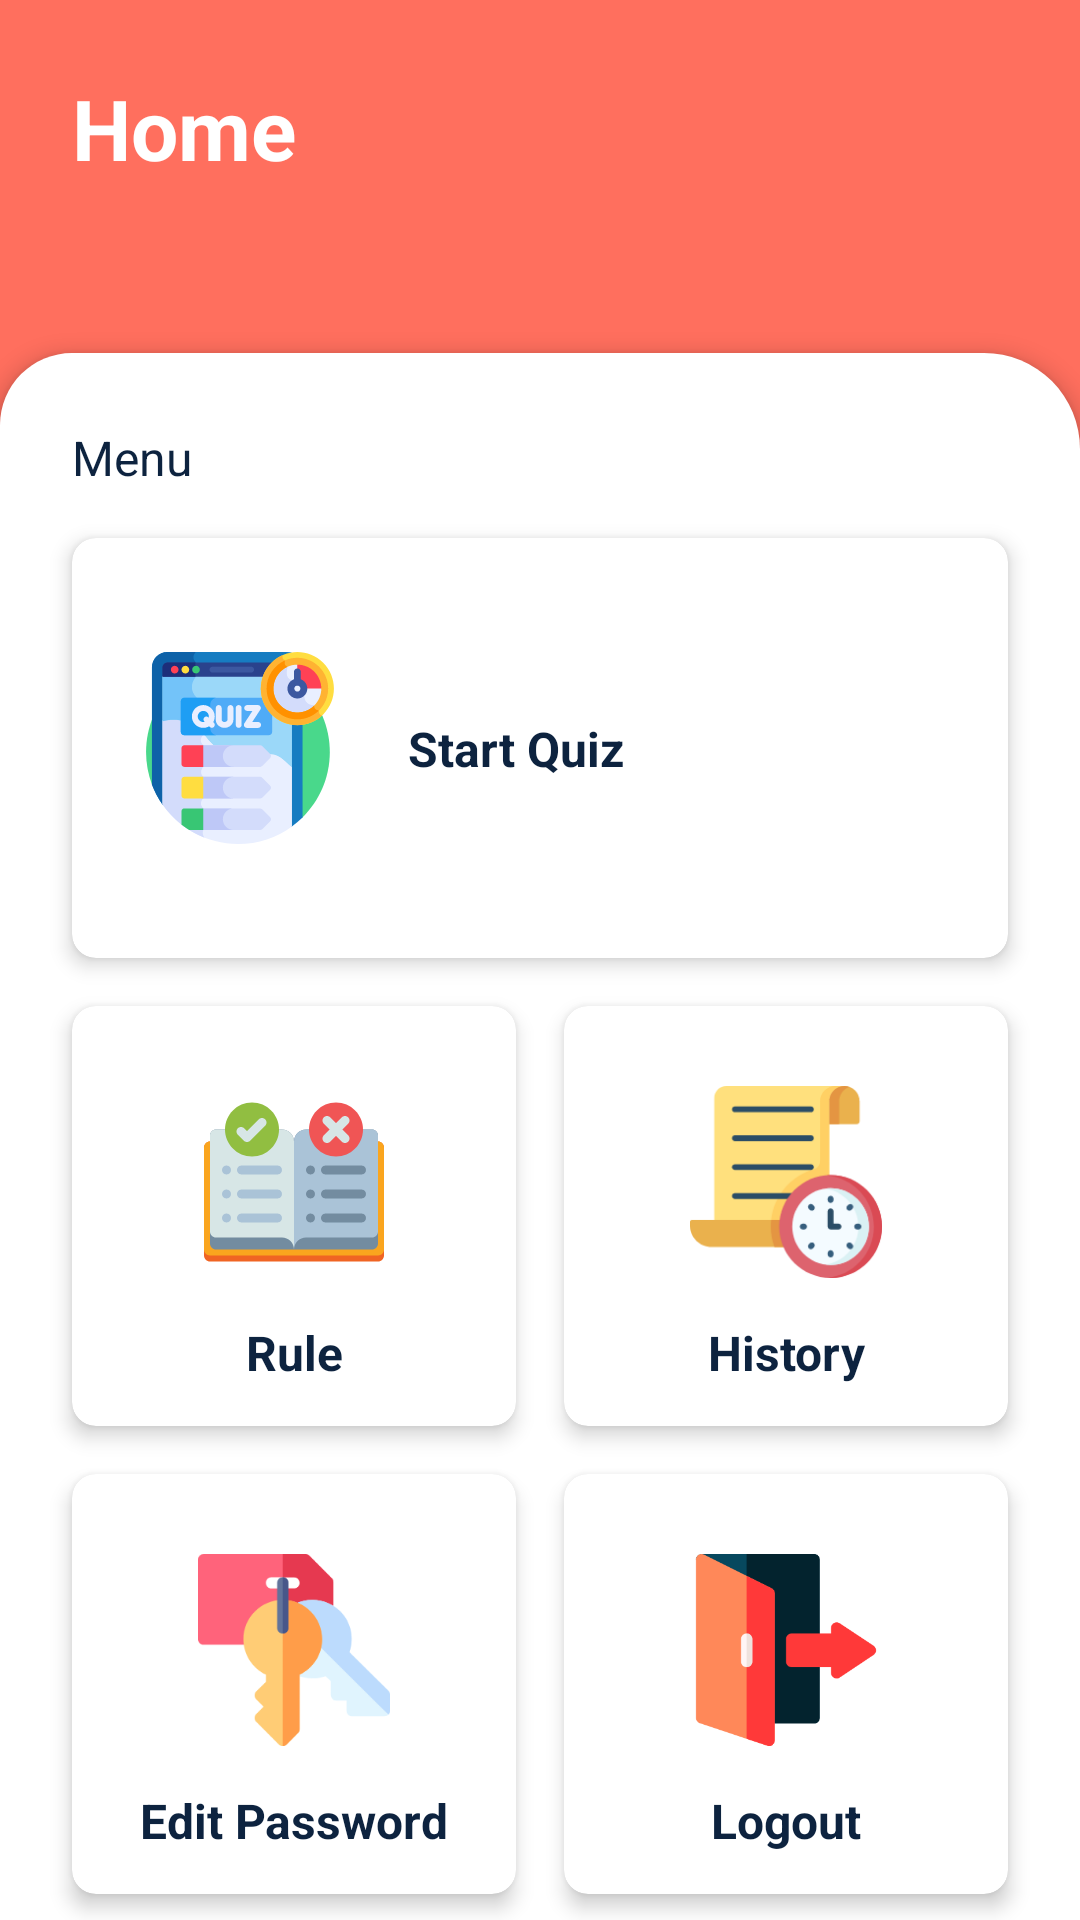

Where icons sit on this 1080 x 1920 app screen, as [x1, y1, x2, y2]:
keys: [198, 1554, 390, 1746]
